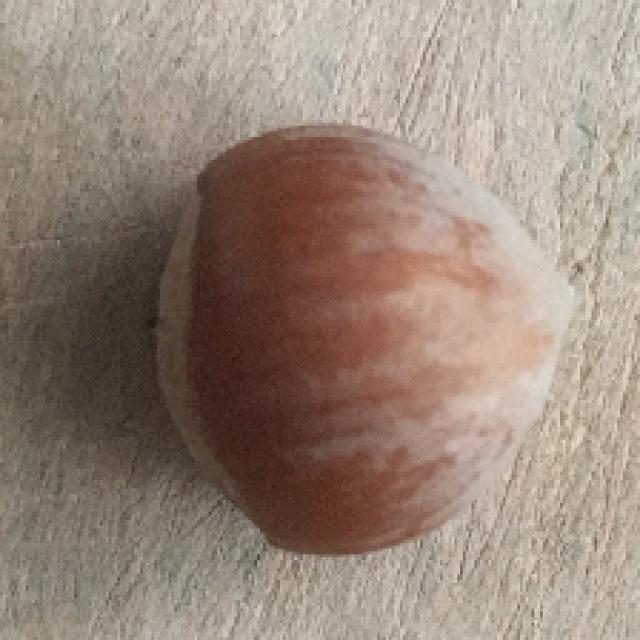qualityHazelnut: (152, 128, 582, 554)
